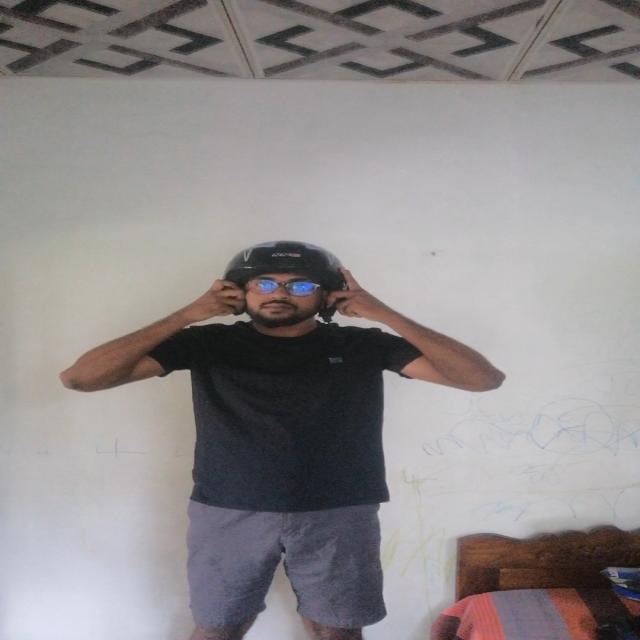Helmet_Wearer: (197, 236, 363, 342)
Person: (55, 243, 505, 640)
